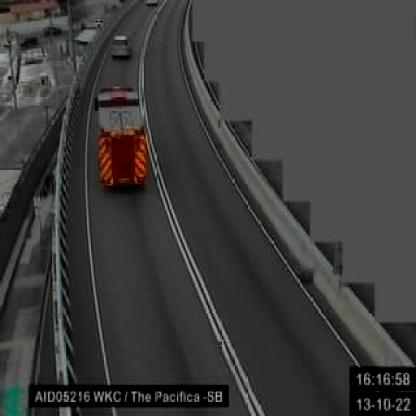Car: (110, 31, 132, 58)
Truck: (96, 87, 151, 193)
